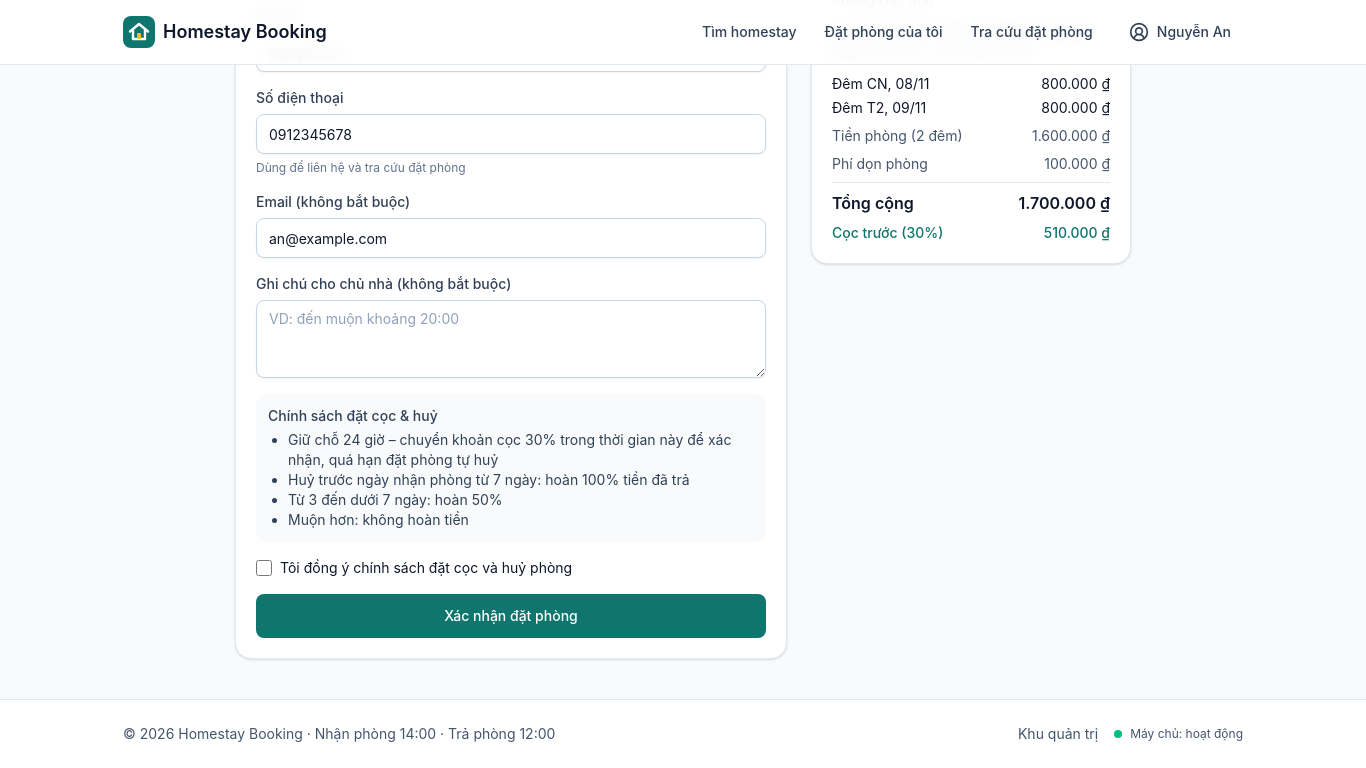
Test case: đặt phòng › phòng vừa bị người khác đặt (409 không kèm giá) → báo lỗi, làm mới báo giá, không cho đặt tiếp
(page scrolled)
expect the text "1.700.000 ₫" is shown: met, box [1018,191,1110,215]
Click the checkbox labelled "Tôi đồng ý chính sách đặt cọc và huỷ phòng" at (264, 568), box [256,560,272,576]
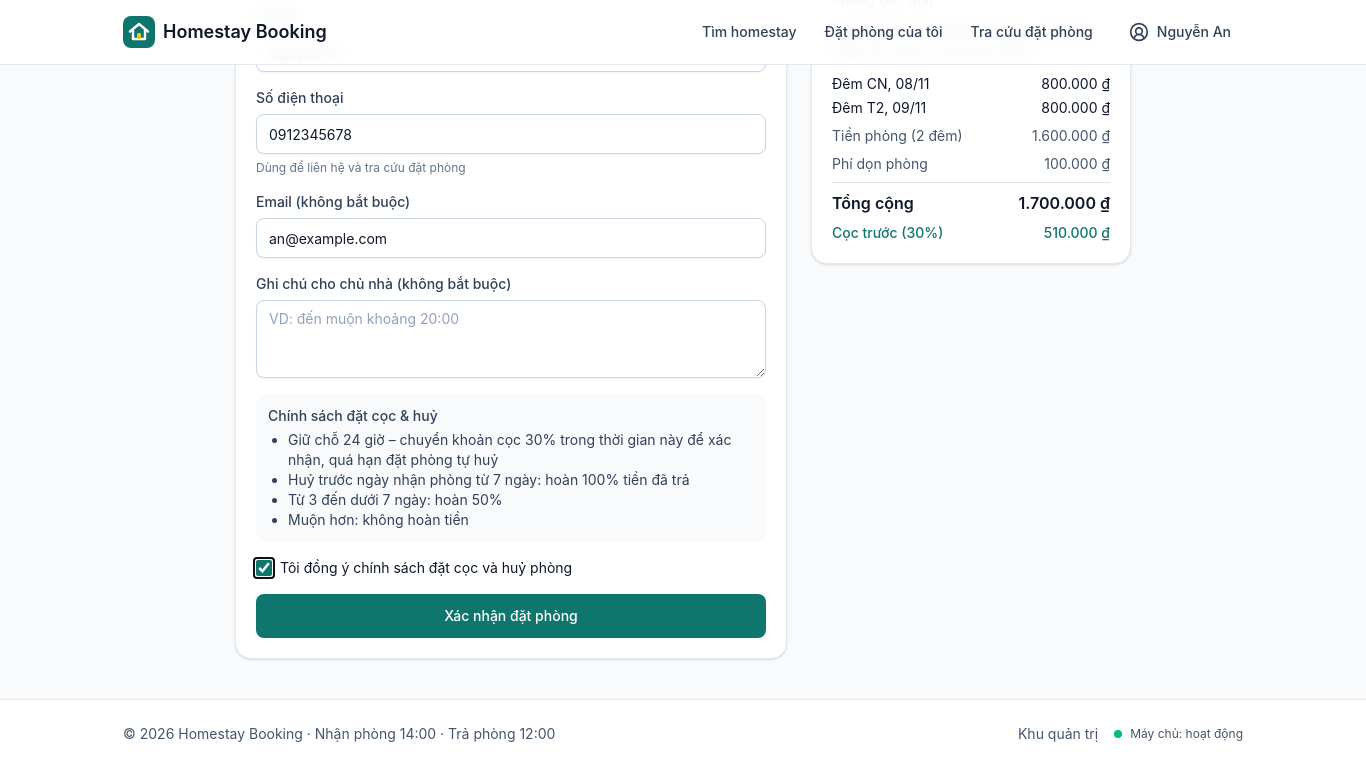
Click the button "Xác nhận đặt phòng" at (511, 616), box [256,594,766,638]
(page scrolled)
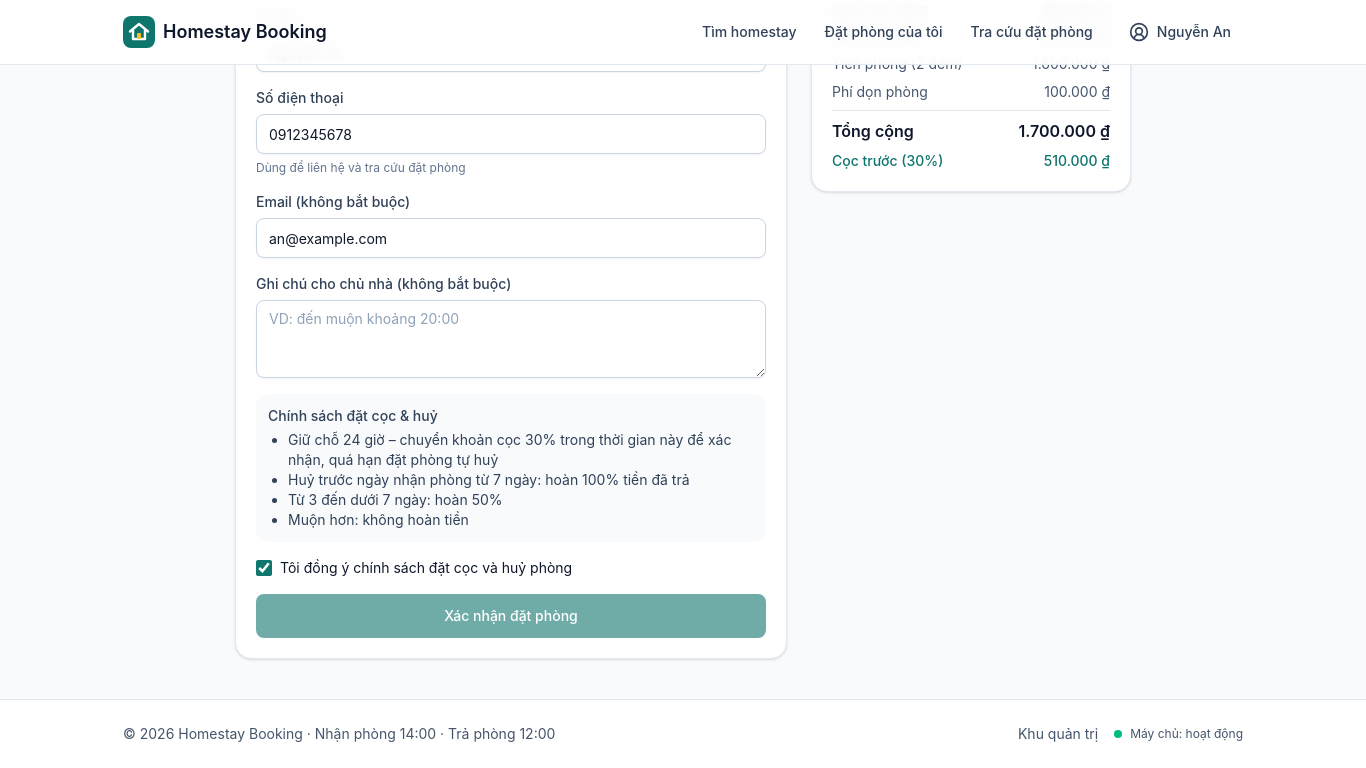
expect the field labelled "Họ tên" holds "Nguyễn An": met, box [256,32,766,72]
expect the button "Xác nhận đặt phòng" is disabled: met, box [256,594,766,638]
